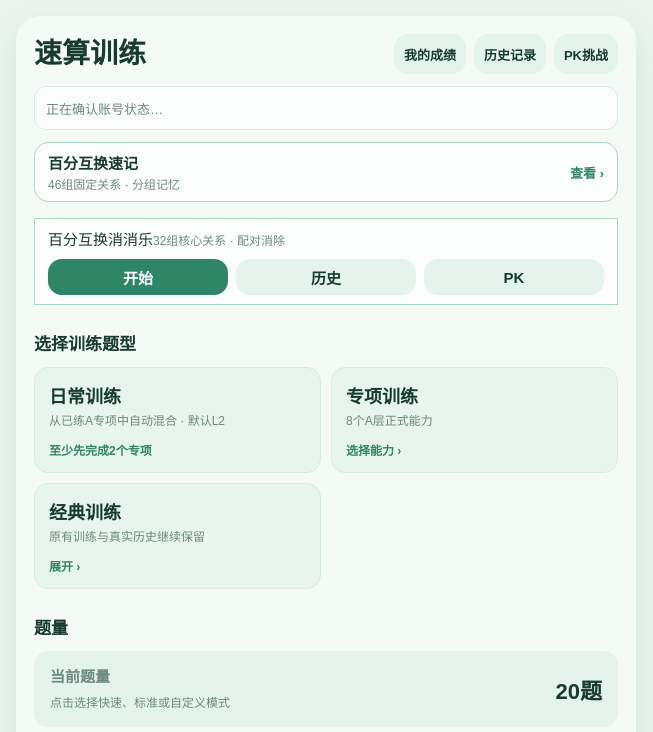
Test: Home active-session interactions › opens the native fraction-percent memory page from home
Click the button "百分互换速记 46组固定关系 · 分组记忆 查看 ›": [93, 164] box [34,142,618,202]
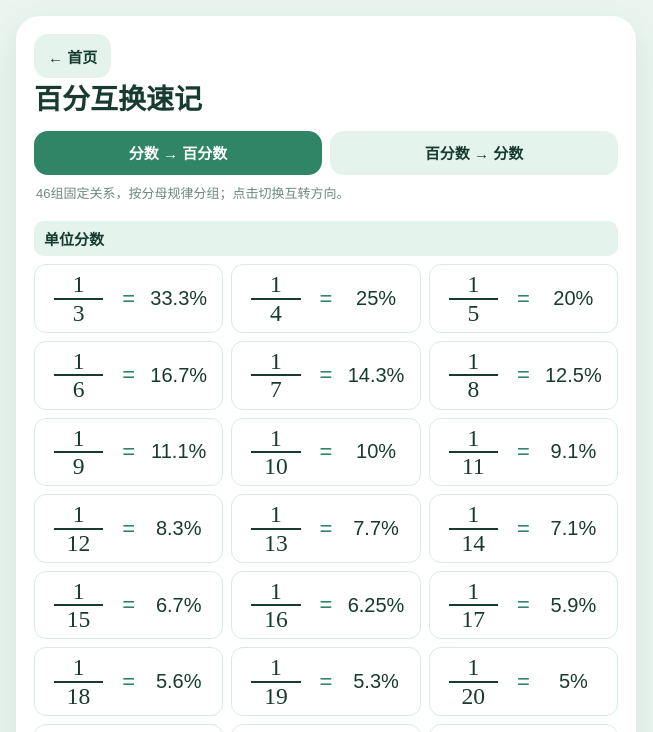
Expected: the heading "百分互换速记" is shown, [34,84,202,115]
Expected: the tab "分数 → 百分数" is shown, [34,131,322,175]
